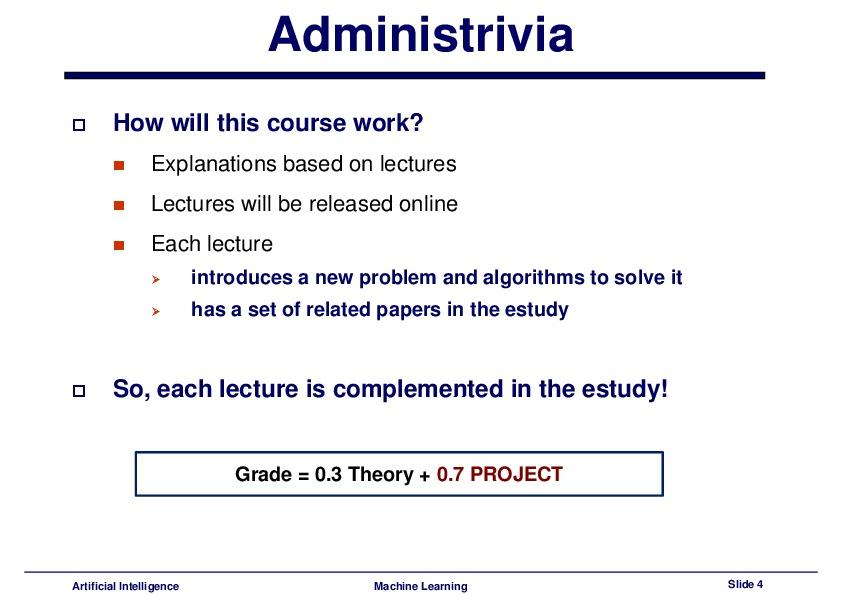paragraph: (137, 144, 722, 334)
subtitle: (106, 365, 681, 410), (62, 570, 810, 595), (108, 103, 436, 143)
title: (266, 5, 580, 66)
